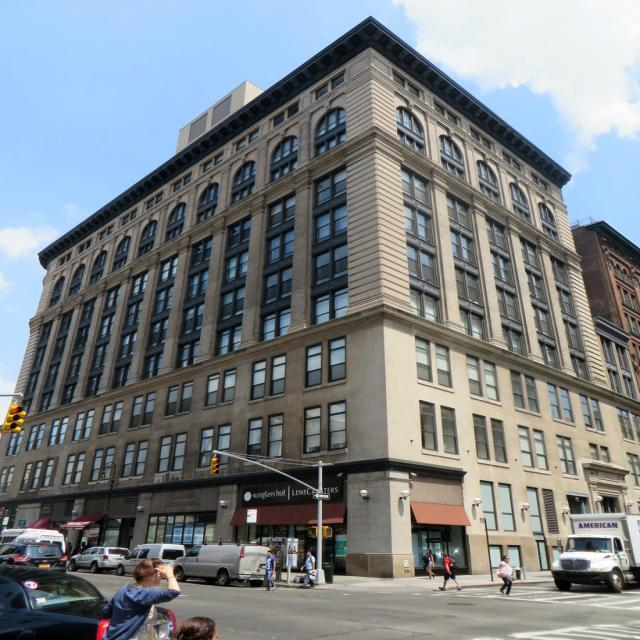truck: (0, 564, 176, 638), (0, 555, 111, 613), (114, 548, 186, 572), (68, 544, 131, 569)
